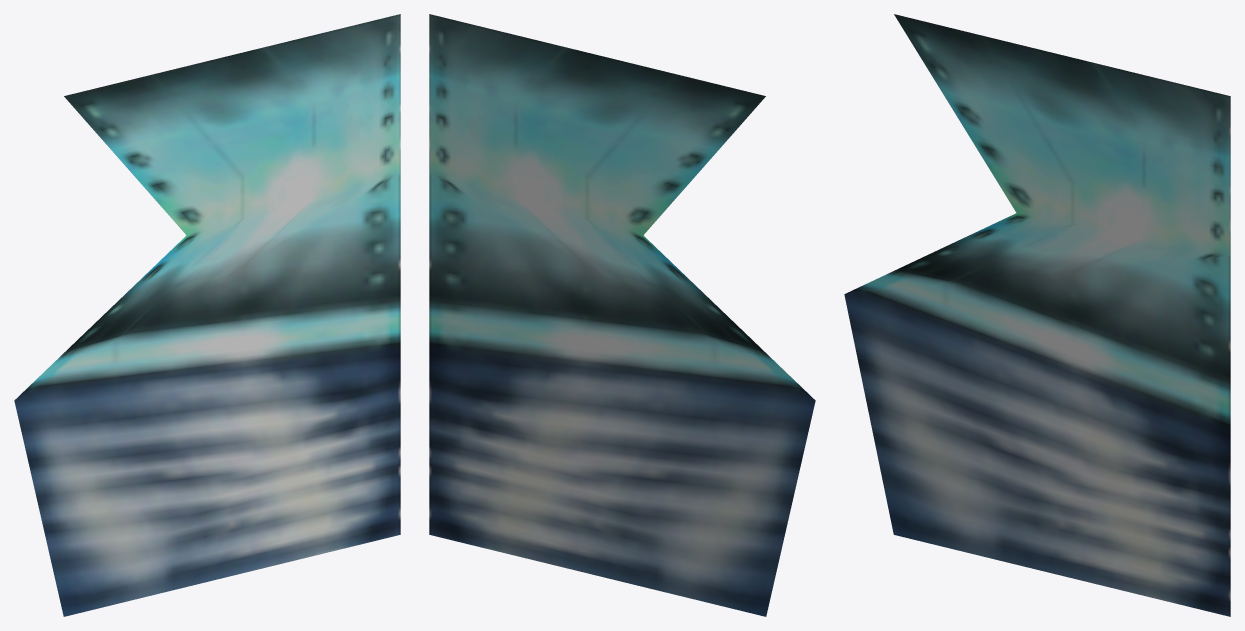
Rendered from W_AI_Aula_Ministerium2_2536.glb.
The picture shows the model from 3 angles, left to right: view 1: azimuth 30°, elevation 25°; view 2: azimuth 150°, elevation 25°; view 3: azimuth 330°, elevation 25°; orthographic projection.
Parts seen in each view (by area): view 1: pPlaneShape175; view 2: pPlaneShape175; view 3: pPlaneShape175.
Part boxes in pixels (box(x1,y1,x2,y2)): pPlaneShape175: box(14, 14, 400, 616); pPlaneShape175: box(429, 14, 815, 616); pPlaneShape175: box(844, 14, 1230, 616).
Size of the model in its own units: 0.3021 by 0.3891 by 1.7e-08.
1 material, 1 textured.
